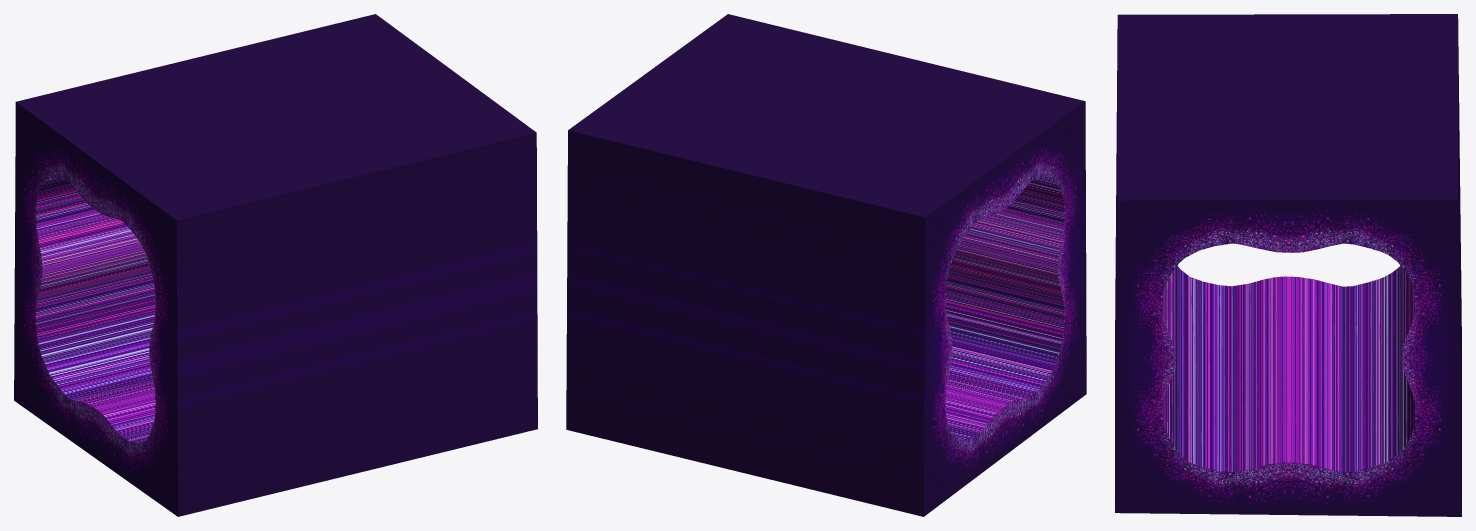
File: caveexit1.fbx
The picture shows the model from 3 angles, left to right: view 1: azimuth 30°, elevation 25°; view 2: azimuth 150°, elevation 25°; view 3: azimuth 270°, elevation 25°; orthographic projection. The views are drawn at different scales.
Visible parts, largest first — view 1: caveexit1; view 2: caveexit1; view 3: caveexit1.
Part boxes in pixels (x1=…): caveexit1: x1=14, y1=14, x2=537, y2=516; caveexit1: x1=566, y1=14, x2=1086, y2=516; caveexit1: x1=1115, y1=14, x2=1461, y2=516.
Bounding box in the file's own units: 370 × 295 × 292.
